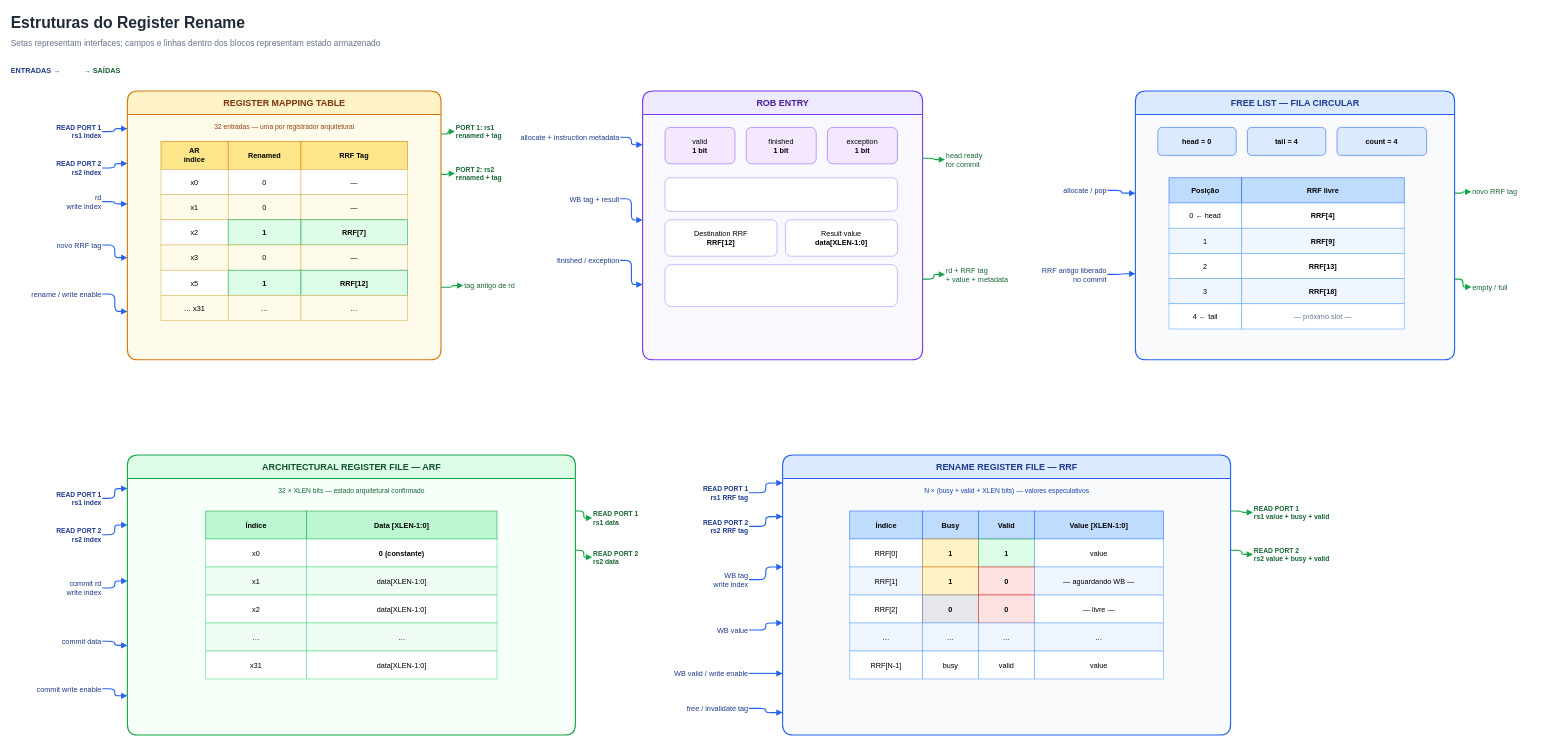
Image size: 1542x745. Some labels were removed from this diagram. Here are the shapes that lost their labels. From the top down, the centre of each, then its label:
point 780,194: Architectural destination rd = x5
point 780,285: Additional information branch • store • exception metadata
